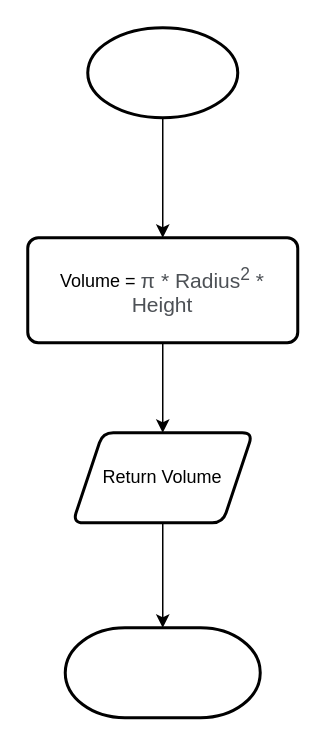
This 324x744 diagram has some shape labels left out. The shapes that lost their labels are listed below. From the top down, each one's centre as x and y in pixels, then its label:
the point at 162,72: Start
the point at 162,672: Stop
